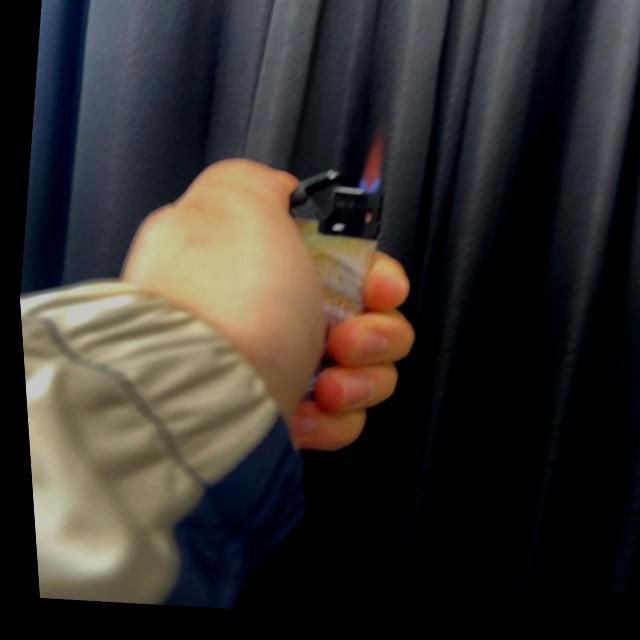helmet: (351, 134, 389, 204)
